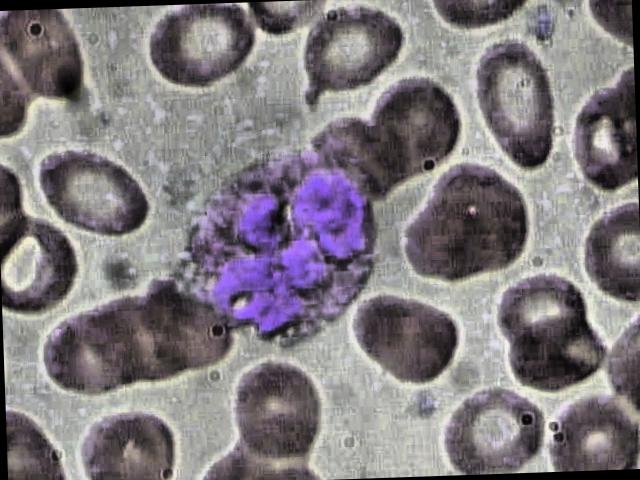Platelets: (524, 6, 563, 46)
RBC: (390, 160, 536, 290), (468, 34, 573, 172), (224, 350, 337, 468), (30, 134, 153, 242), (286, 0, 408, 108), (348, 283, 470, 391), (361, 72, 473, 184), (433, 379, 554, 476), (144, 3, 262, 89), (486, 264, 595, 354), (0, 210, 85, 318), (70, 402, 182, 480)
WBC: (171, 141, 391, 356)
